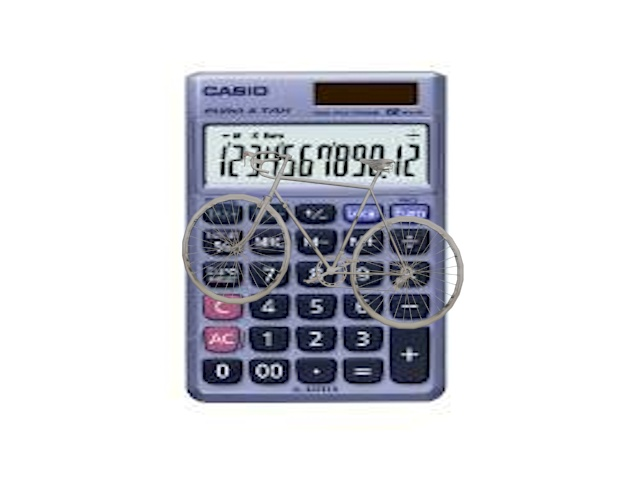bike: (176, 145, 465, 336)
